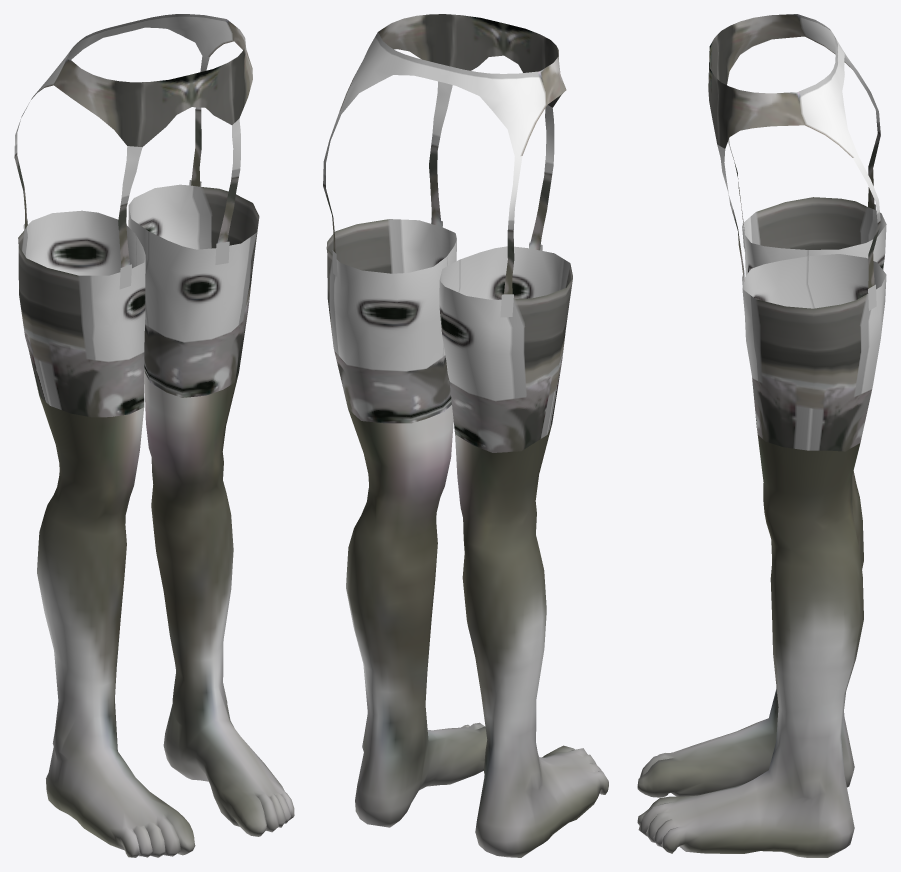
Rendered from StockingsDark.fbx.
3 renders of one model, left to right at view 1: azimuth 30°, elevation 25°; view 2: azimuth 150°, elevation 25°; view 3: azimuth 270°, elevation 25°, orthographic. The views are drawn at different scales.
Visible parts, largest first — view 1: GatherBelt_mesh; view 2: GatherBelt_mesh; view 3: GatherBelt_mesh.
Boxes of the visible parts, <box> form: GatherBelt_mesh: <box>14,14,294,857</box>; GatherBelt_mesh: <box>323,14,608,857</box>; GatherBelt_mesh: <box>637,14,886,857</box>.
Size of the model in its own units: 372 by 1200 by 351.
